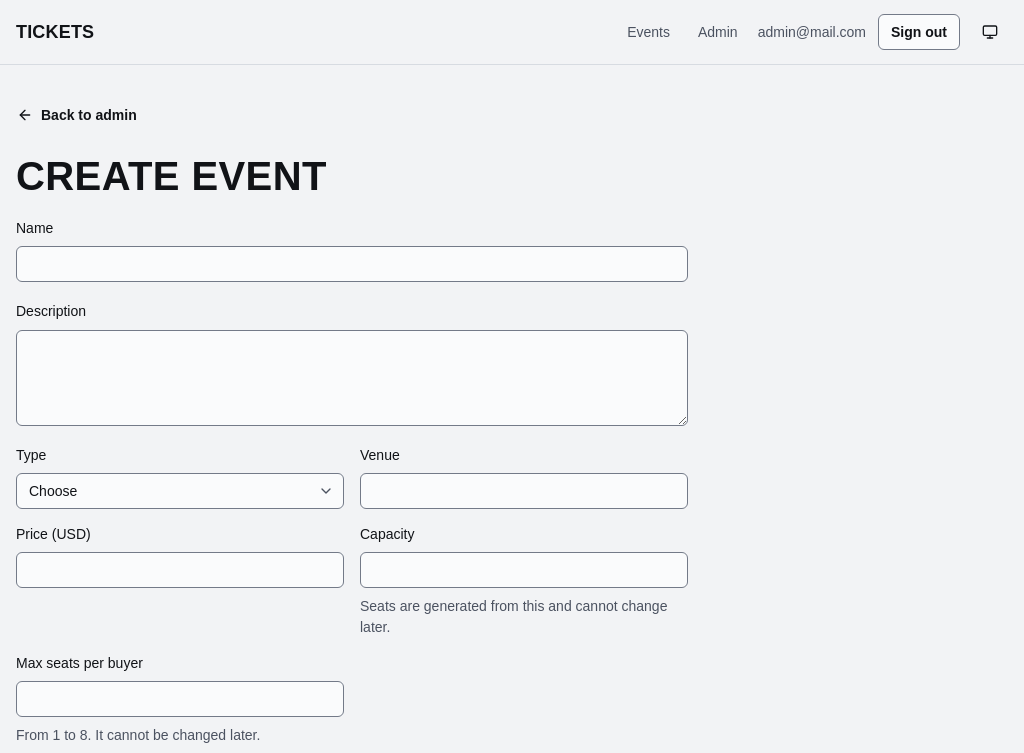
Test: CreateEventPage › rejects 0 as the max seats per buyer
Type "25" into the field labelled "Capacity".
click(524, 570); type("25")  # box [360, 552, 688, 588]
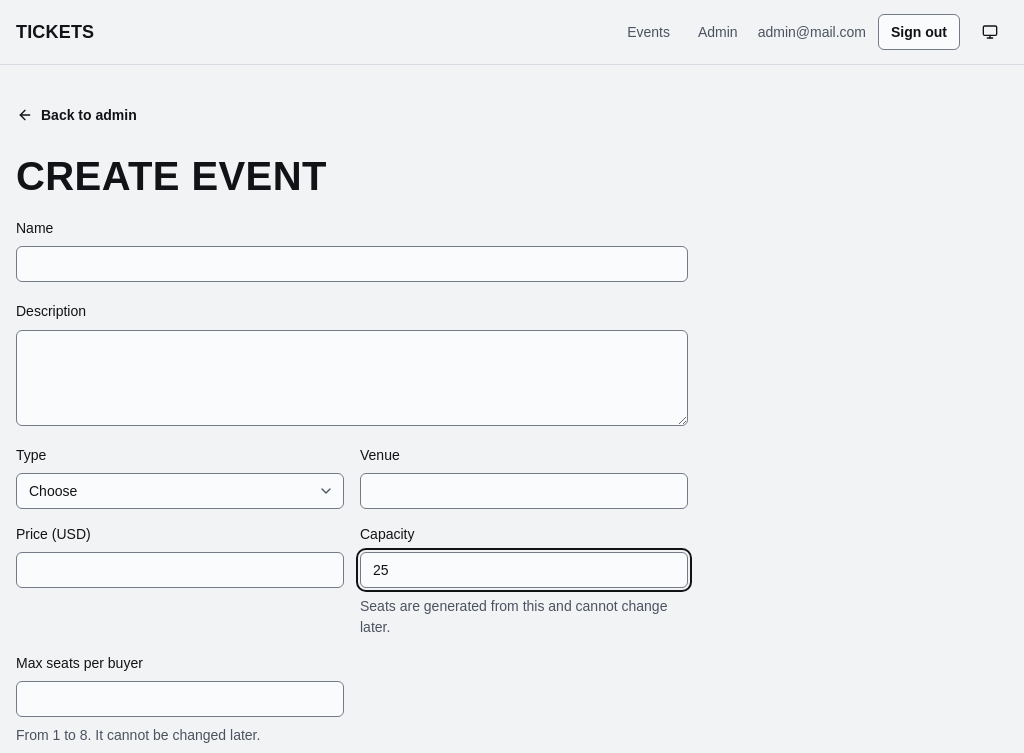
Type "0" into the field labelled "Max seats per buyer".
click(180, 699); type("0")  # box [16, 681, 344, 717]
(page scrolled)
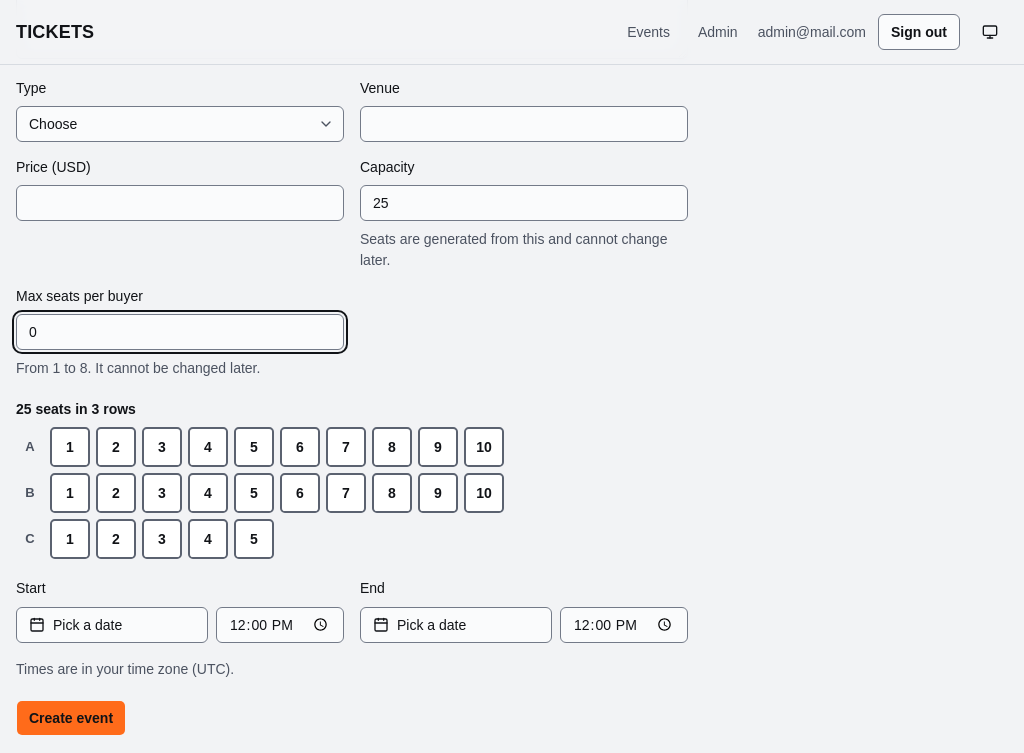
Click the button "Create event".
click(71, 718)  # box [16, 700, 126, 736]
(page scrolled)
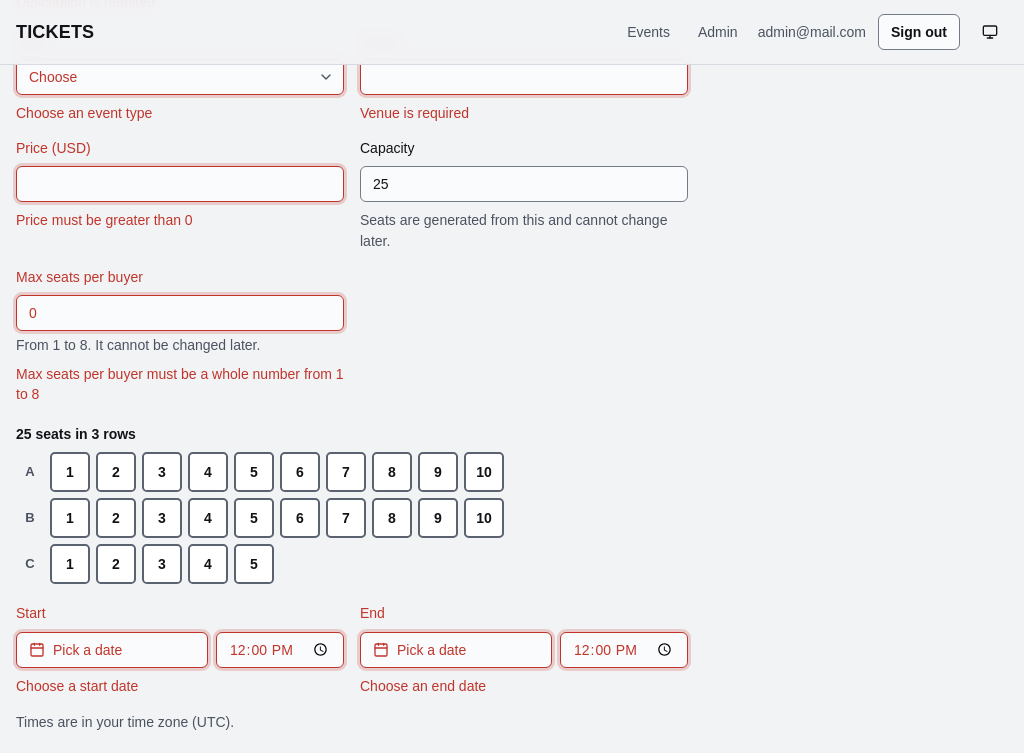
Result: the text "Max seats per buyer must be a whole number from 1 to 8" is shown at [16, 364, 344, 404]
